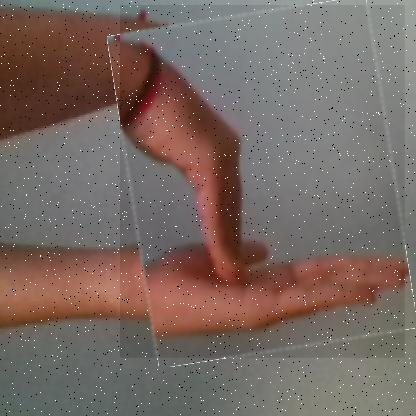Z: (120, 5, 406, 359)
